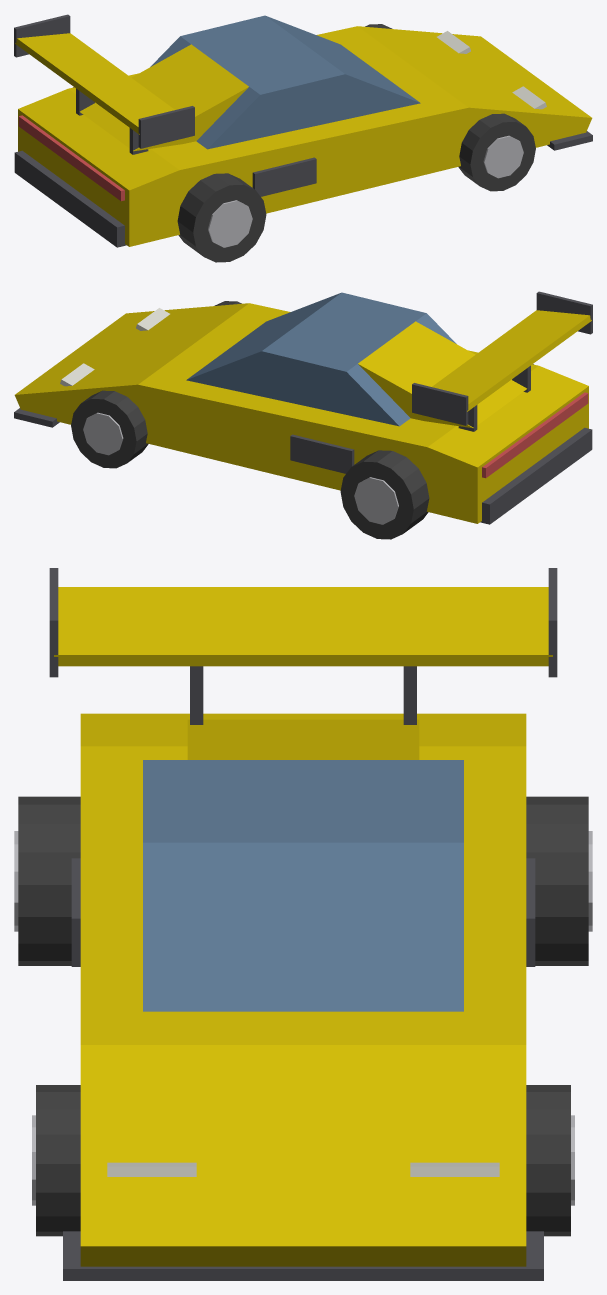
The model's file is asset.glb.
The picture shows the model from 3 angles, top to bottom: view 1: azimuth 30°, elevation 25°; view 2: azimuth 150°, elevation 25°; view 3: azimuth 270°, elevation 25°; orthographic projection. The views are drawn at different scales.
Visible parts, largest first — view 1: geometry_0; view 2: geometry_0; view 3: geometry_0.
Part boxes in pixels (<box>): geometry_0: <box>14,14,592,262</box>; geometry_0: <box>14,291,592,539</box>; geometry_0: <box>14,568,592,1280</box>.
Bounding box in the file's own units: 1.22 × 0.385 × 0.649.
